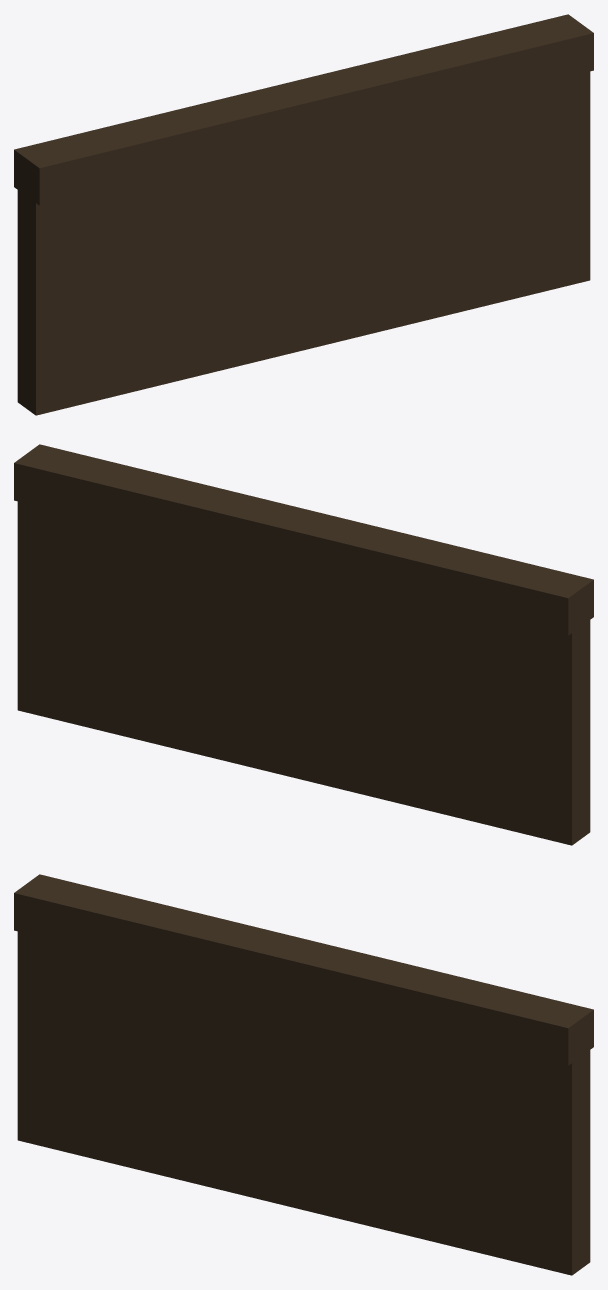
Rendered from Fence Long.fbx.
The picture shows the model from 3 angles, top to bottom: view 1: azimuth 30°, elevation 25°; view 2: azimuth 150°, elevation 25°; view 3: azimuth 330°, elevation 25°; orthographic projection.
Parts seen in each view (by area): view 1: Fence Long; view 2: Fence Long; view 3: Fence Long.
Part boxes in pixels (x1,y1,x2,y2): Fence Long: (14, 14, 593, 415); Fence Long: (14, 444, 593, 845); Fence Long: (14, 874, 593, 1275).
Size of the model in its own units: 140 by 60.34 by 11.2.
